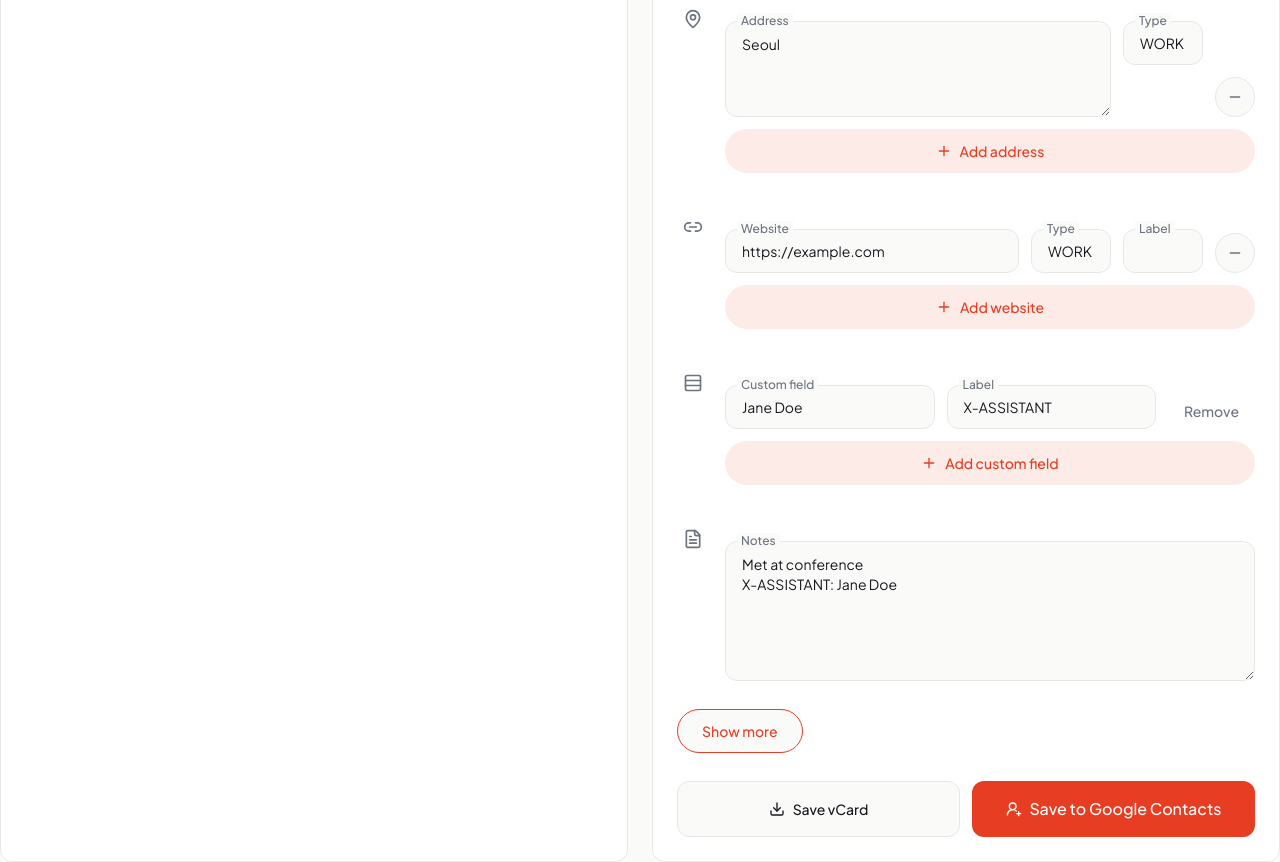
Test: ReviewWorkspace › starts with optional sections collapsed when extracted hidden fields are empty
The image size is (1280, 862).
(page scrolled)
Click the button "Show more".
click(740, 731)  # box [677,709,803,753]
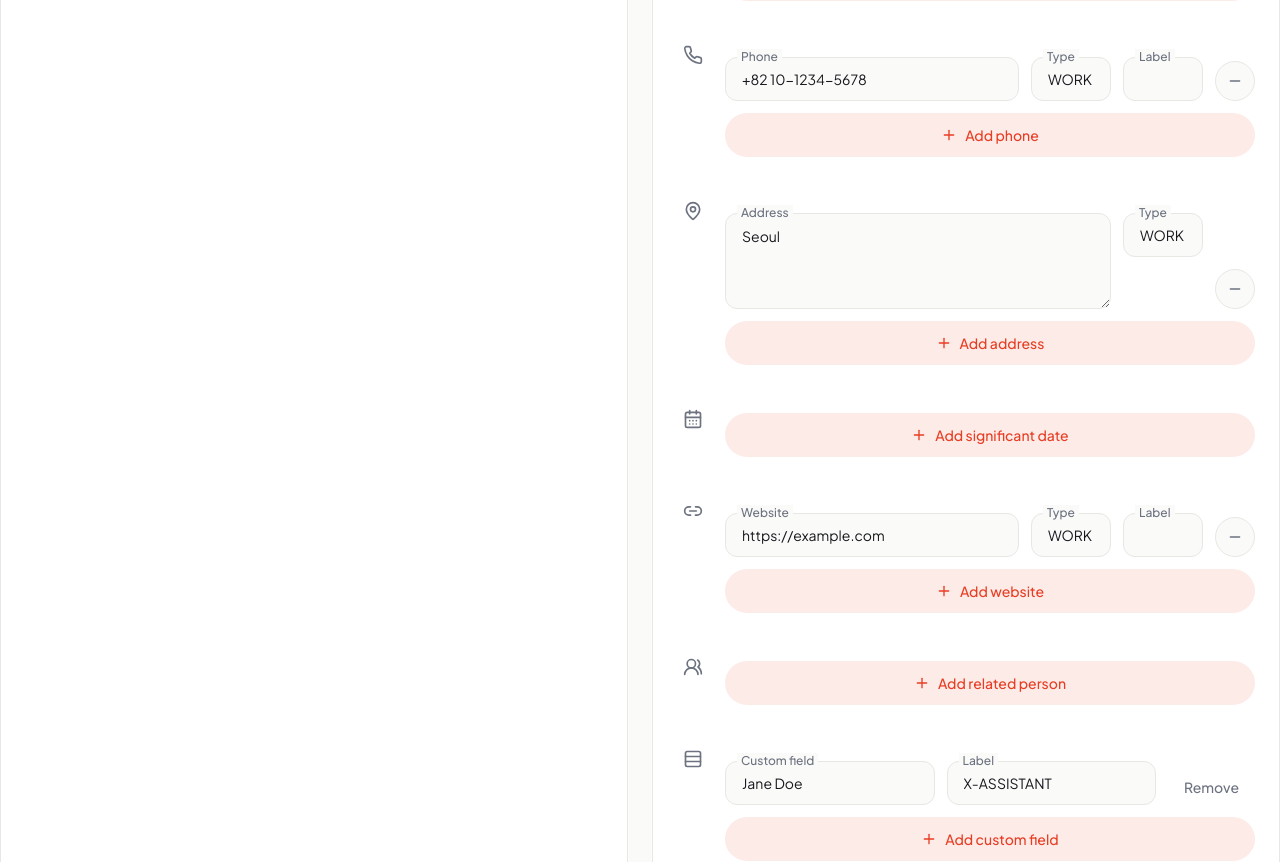
Result: the element named "Related people" is shown at [677,641,1255,705]
